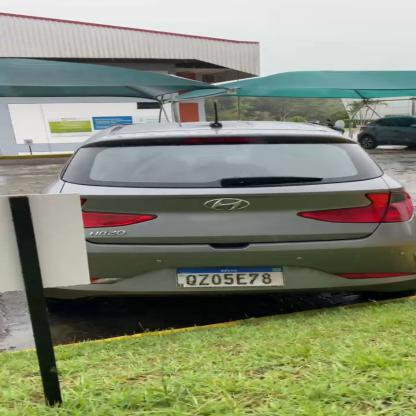Plate: (172, 260, 294, 291)
